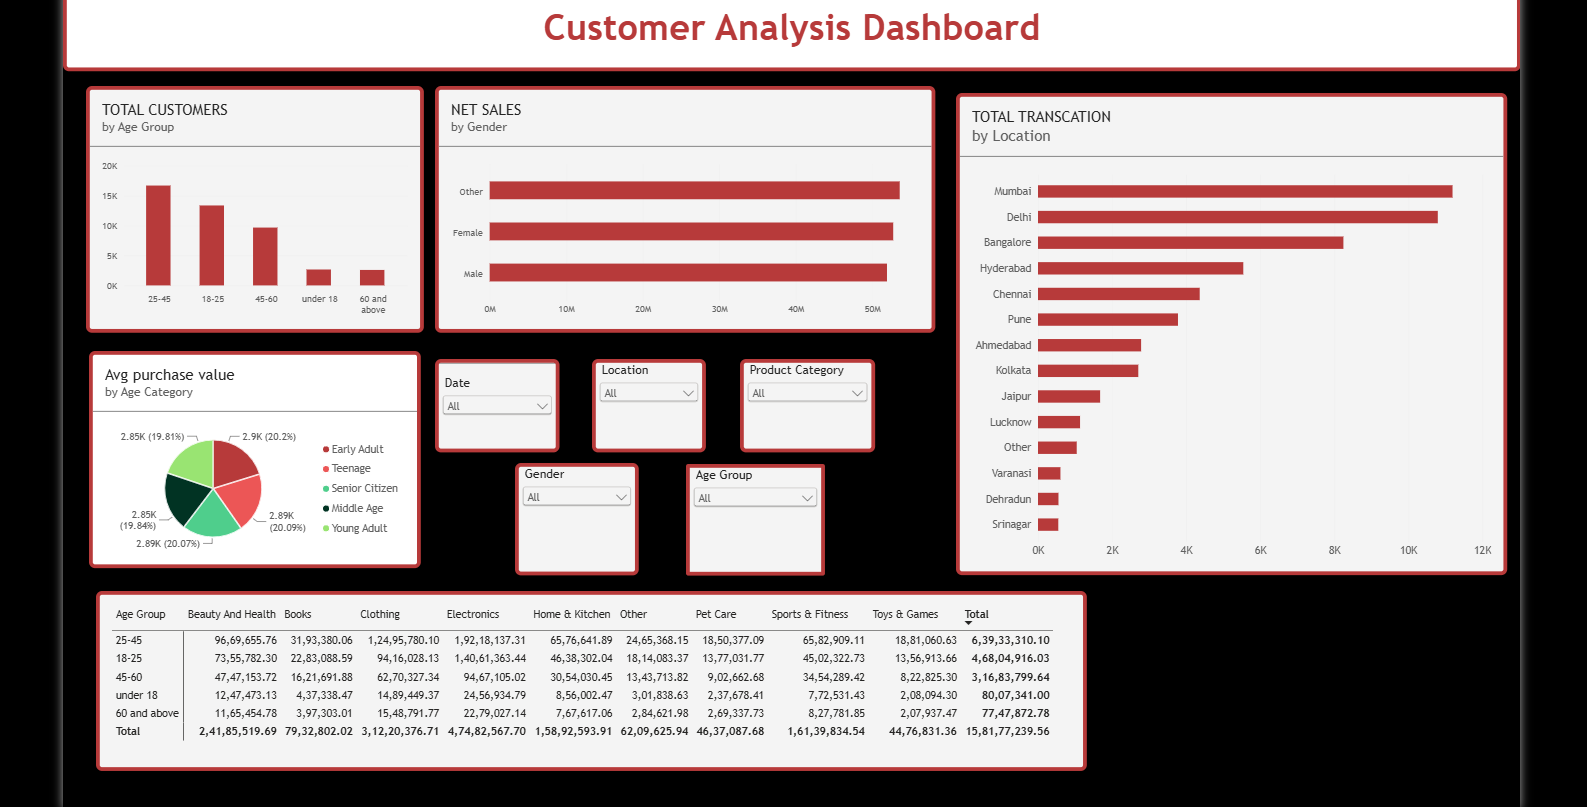

The page's visual inventory and layout, read from the dashboard file:
{"tool":"powerbi","page":{"name":"customer","canvas":[1920,1080],"ordinal":1},"visuals":[{"type":"textbox","box":[0,0,1920,107.3],"z":0},{"type":"clusteredColumnChart","fields":{"Category":["Calculated data.Age Group"],"Y":["Calculated data.TOTAL CUSTOMERS"]},"box":[30.5,125.9,445.2,324.6],"z":1},{"type":"clusteredBarChart","fields":{"Category":["Calculated data.Gender"],"Y":["Calculated data.NET SALES"]},"box":[490.3,125.9,658.6,324.6],"z":2},{"type":"pieChart","fields":{"Category":["Calculated data.Age Category"],"Y":["Calculated data.Avg purchase value"]},"box":[34.5,475.7,437.3,286.2],"z":3},{"type":"clusteredBarChart","fields":{"Category":["Calculated data.Location"],"Y":["Calculated data.TOTAL TRANSCATION"]},"box":[1176.6,135.2,726.1,634.7],"z":4},{"type":"pivotTable","fields":{"Columns":["Calculated data.Product Category"],"Rows":["Calculated data.Age Group"],"Values":["Calculated data.NET SALES"]},"box":[43.7,791.1,1305.2,237.2],"z":5},{"type":"slicer","fields":{"Values":["Calculated data.Gender"]},"box":[594.9,622.8,163,148.4],"z":6},{"type":"slicer","fields":{"Values":["Calculated data.Age Group"]},"box":[820.2,624.1,182.9,147.1],"z":7},{"type":"slicer","fields":{"Values":["Date Table.Date"]},"box":[490.3,486.3,164.3,123.2],"z":8},{"type":"slicer","fields":{"Values":["Calculated data.Product Category"]},"box":[891.8,486.3,177.6,123.2],"z":9},{"type":"slicer","fields":{"Values":["Calculated data.Location"]},"box":[697,486.3,149.7,123.2],"z":10}]}

Visuals, with their boxes in screenshot pixels (x1, y1, x2, y2):
textbox: box(58, 0, 1523, 65)
clusteredColumnChart - Calculated data.Age Group x Calculated data.TOTAL CUSTOMERS: box(81, 80, 421, 327)
clusteredBarChart - Calculated data.Gender x Calculated data.NET SALES: box(432, 80, 934, 327)
pieChart - Calculated data.Age Category x Calculated data.Avg purchase value: box(84, 346, 418, 565)
clusteredBarChart - Calculated data.Location x Calculated data.TOTAL TRANSCATION: box(956, 87, 1509, 571)
pivotTable - Calculated data.Product Category x Calculated data.Age Group: box(91, 587, 1087, 768)
slicer - Calculated data.Gender: box(512, 459, 636, 572)
slicer - Calculated data.Age Group: box(684, 460, 823, 572)
slicer - Date Table.Date: box(432, 354, 557, 448)
slicer - Calculated data.Product Category: box(738, 354, 874, 448)
slicer - Calculated data.Location: box(590, 354, 704, 448)
